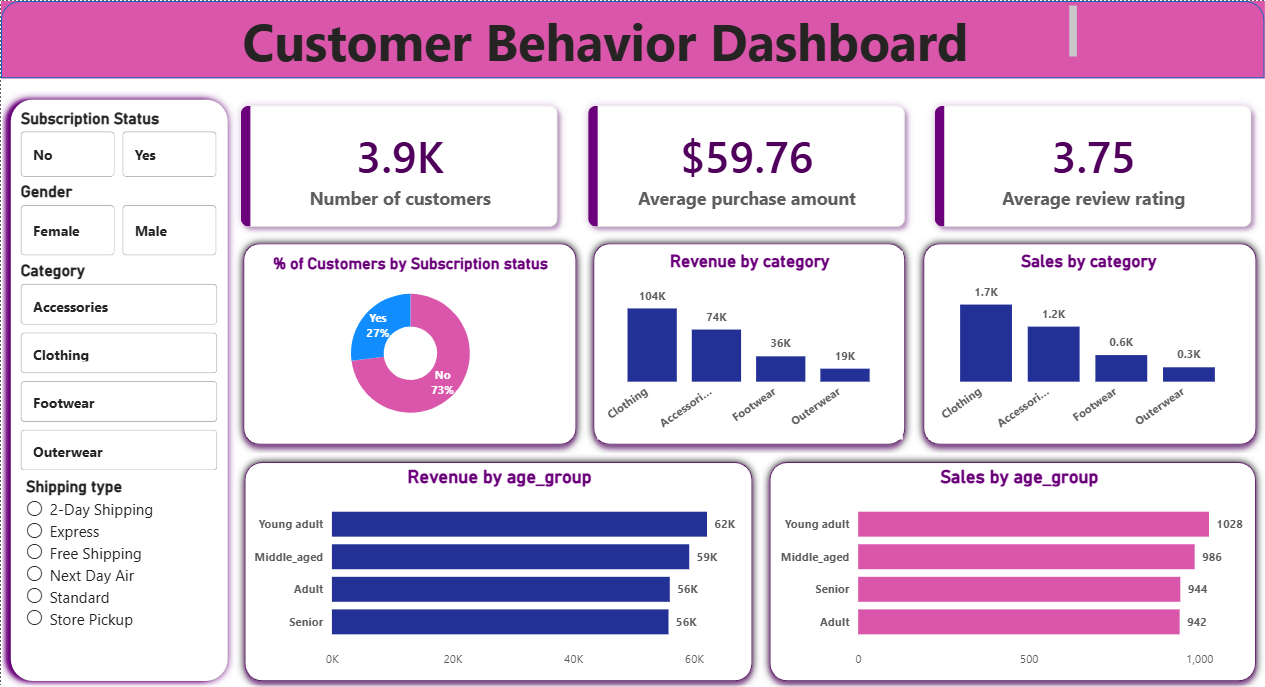

Layout of this report page (visuals, bound fields, positions):
{"tool":"powerbi","page":{"name":"Page 1","canvas":[1500,820],"ordinal":0},"visuals":[{"type":"cardVisual","fields":{"Data":["public customer.Number of customers","public customer.Average purchase amount","public customer.Average review rating"]},"box":[223.8,81.2,1121.2,185],"z":0},{"type":"shape","box":[0,0,1330,81.2],"z":1000},{"type":"textbox","box":[142.5,0,995,71.2],"z":2000},{"type":"shape","box":[246.2,246.2,368.8,230],"z":3000},{"type":"donutChart","title":"% of Customers by Subscription status","fields":{"Category":["public customer.subscription_status"],"Y":["CountNonNull(public customer.customer_id)"]},"box":[260,266.2,341.2,191.2],"z":4000},{"type":"shape","box":[615,246.2,346.2,230],"z":4001},{"type":"shape","box":[961.2,246.2,368.8,230],"z":4002},{"type":"clusteredColumnChart","title":"Revenue by category","fields":{"Y":["Sum(public customer.purchase_amount)"],"Category":["public customer.category"]},"box":[627.5,262.5,321.2,198.8],"z":4003},{"type":"clusteredColumnChart","title":"Sales by category","fields":{"Category":["public customer.category"],"Y":["CountNonNull(public customer.customer_id)"]},"box":[976.2,262.5,337.5,198.8],"z":4004},{"type":"shape","box":[1.2,95,246.2,630],"z":4005},{"type":"advancedSlicerVisual","title":"Subscription Status","fields":{"Values":["public customer.subscription_status"]},"box":[16.2,113.8,217.5,77.5],"z":4006},{"type":"advancedSlicerVisual","title":"Gender","fields":{"Values":["public customer.gender"]},"box":[16.2,191.2,217.5,82.5],"z":4007},{"type":"advancedSlicerVisual","title":"Category","fields":{"Values":["public customer.category"]},"box":[16.2,273.8,217.5,227.5],"z":4008},{"type":"listSlicer","title":"Shipping type","fields":{"Values":["public customer.shipping_type"]},"box":[26.2,501.2,207.5,212.5],"z":4009},{"type":"shape","box":[800,476.2,530,248.8],"z":4011},{"type":"shape","box":[247.5,476.2,552.5,248.8],"z":4012},{"type":"clusteredBarChart","title":"Revenue by age_group","fields":{"Category":["public customer.age_group"],"Y":["Sum(public customer.purchase_amount)"]},"box":[260,490,528.8,221.2],"z":4013},{"type":"clusteredBarChart","title":"Sales by age_group","fields":{"Category":["public customer.age_group"],"Y":["CountNonNull(public customer.customer_id)"]},"box":[815,490,515,221.2],"z":4014}]}

Visuals, with their boxes in screenshot pixels (x1, y1, x2, y2), scaled from the page's 1500x820 canvas onto the 1265x687 screenshot:
cardVisual - public customer.Number of customers x public customer.Average purchase amount: <box>189,68,1134,223</box>
shape: <box>0,0,1122,68</box>
textbox: <box>120,0,959,60</box>
shape: <box>208,206,519,399</box>
"% of Customers by Subscription status" donutChart: <box>219,223,507,383</box>
shape: <box>519,206,811,399</box>
shape: <box>811,206,1122,399</box>
"Revenue by category" clusteredColumnChart: <box>529,220,800,386</box>
"Sales by category" clusteredColumnChart: <box>823,220,1108,386</box>
shape: <box>1,80,209,607</box>
"Subscription Status" advancedSlicerVisual: <box>14,95,197,160</box>
"Gender" advancedSlicerVisual: <box>14,160,197,229</box>
"Category" advancedSlicerVisual: <box>14,229,197,420</box>
"Shipping type" listSlicer: <box>22,420,197,598</box>
shape: <box>675,399,1122,607</box>
shape: <box>209,399,675,607</box>
"Revenue by age_group" clusteredBarChart: <box>219,411,665,596</box>
"Sales by age_group" clusteredBarChart: <box>687,411,1122,596</box>
